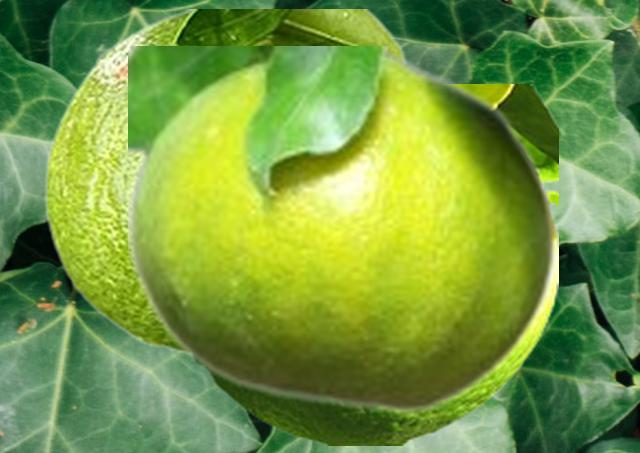dalandan: (128, 46, 558, 415), (188, 84, 557, 444), (43, 9, 406, 354)
